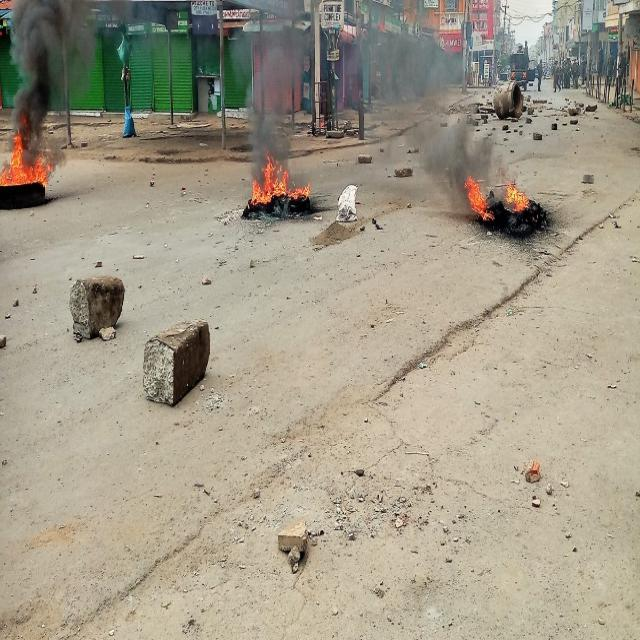fire: (248, 160, 310, 207), (2, 135, 49, 188), (466, 175, 488, 222), (503, 179, 529, 213)
smoke: (389, 42, 458, 166), (241, 42, 297, 144), (20, 5, 61, 121)
